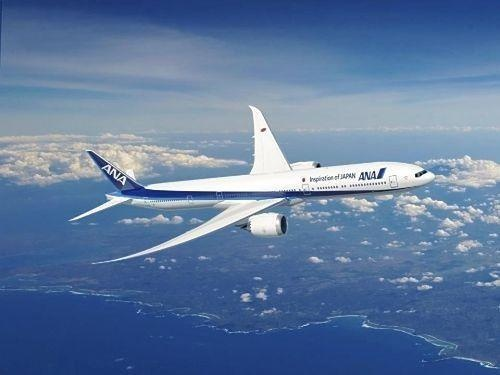airplane: (66, 102, 443, 267)
